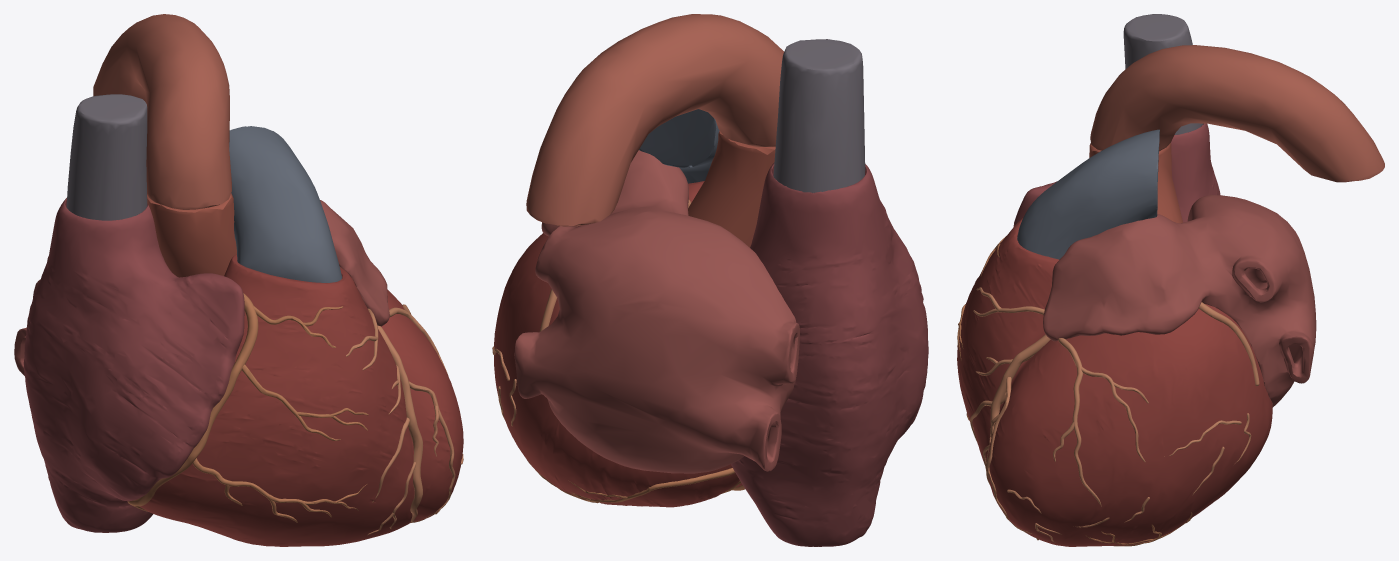
File: heart.glb
The picture shows the model from 3 angles, left to right: view 1: azimuth 30°, elevation 25°; view 2: azimuth 150°, elevation 25°; view 3: azimuth 270°, elevation 25°; orthographic projection. The views are drawn at different scales.
Parts seen in each view (by area): view 1: ventricular-wall, right-atrium, aortic-arch, pulmonary-trunk, superior-vena-cava, ascending-aorta, right-coronary, left-coronary, left-atrium; view 2: left-atrium, right-atrium, aortic-arch, ventricular-wall, superior-vena-cava, ascending-aorta, pulmonary-trunk, right-coronary, left-coronary; view 3: ventricular-wall, left-atrium, aortic-arch, pulmonary-trunk, left-coronary, right-atrium, superior-vena-cava, ascending-aorta, right-coronary.
Boxes of the visible parts, x1=… form: ventricular-wall: x1=136, y1=254, x2=463, y2=546; right-atrium: x1=23, y1=198, x2=244, y2=532; aortic-arch: x1=93, y1=14, x2=231, y2=209; pulmonary-trunk: x1=229, y1=126, x2=342, y2=282; superior-vena-cava: x1=66, y1=94, x2=147, y2=220; ascending-aorta: x1=147, y1=193, x2=236, y2=277; right-coronary: x1=127, y1=293, x2=424, y2=522; left-coronary: x1=346, y1=304, x2=463, y2=535; left-atrium: x1=14, y1=200, x2=389, y2=375; left-atrium: x1=514, y1=150, x2=799, y2=473; right-atrium: x1=731, y1=163, x2=928, y2=546; aortic-arch: x1=526, y1=14, x2=783, y2=226; ventricular-wall: x1=494, y1=181, x2=742, y2=507; superior-vena-cava: x1=773, y1=39, x2=865, y2=192; ascending-aorta: x1=688, y1=131, x2=775, y2=247; pulmonary-trunk: x1=639, y1=109, x2=719, y2=183; right-coronary: x1=527, y1=460, x2=744, y2=503; left-coronary: x1=492, y1=200, x2=690, y2=426; ventricular-wall: x1=957, y1=218, x2=1272, y2=546; left-atrium: x1=1043, y1=195, x2=1316, y2=407; aortic-arch: x1=1090, y1=45, x2=1384, y2=182; pulmonary-trunk: x1=1017, y1=129, x2=1159, y2=259; left-coronary: x1=970, y1=287, x2=1259, y2=542; right-atrium: x1=1013, y1=123, x2=1220, y2=226; superior-vena-cava: x1=1123, y1=14, x2=1203, y2=134; ascending-aorta: x1=1089, y1=143, x2=1182, y2=223; right-coronary: x1=957, y1=236, x2=1192, y2=546.
Size of the model in its own units: 2.67 by 3.3 by 2.93.
